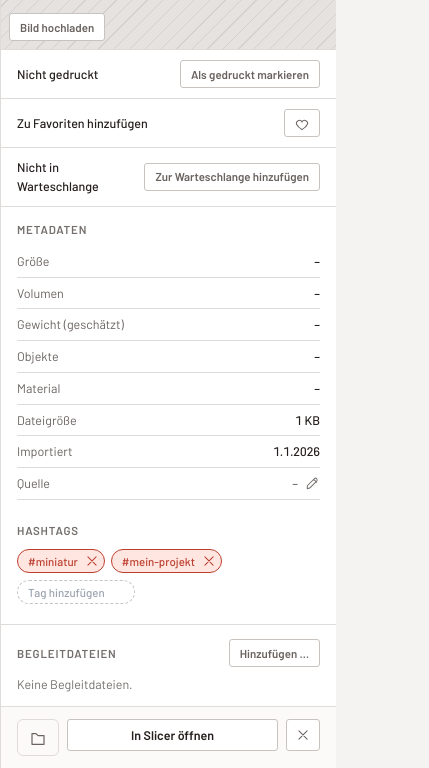
Test: tag chips in the compact detail panel › removes only: the menu entry behaves like the plain button and does not block
(page scrolled)
Click the button named "miniatur entfernen, Menü". click: (92, 561)
box: [84,553,100,569]
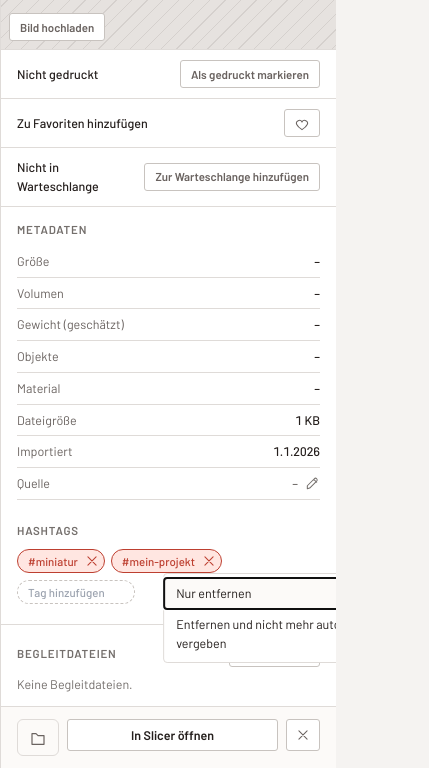
Click the menu item "Nur entfernen". click: (288, 594)
box: [164,578,412,609]
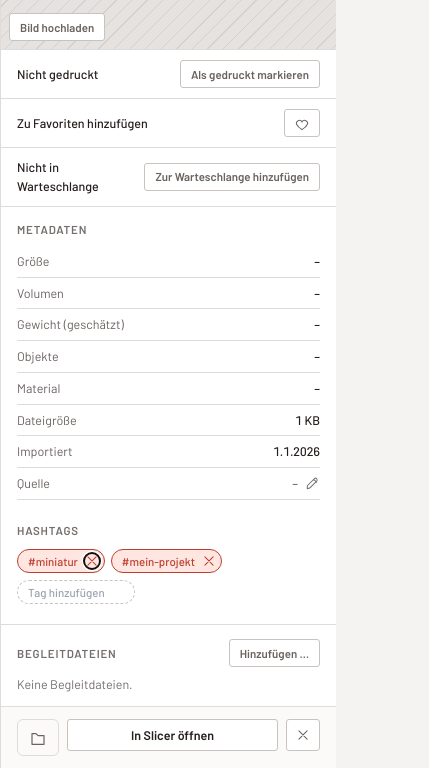
Check: the menu is gone
